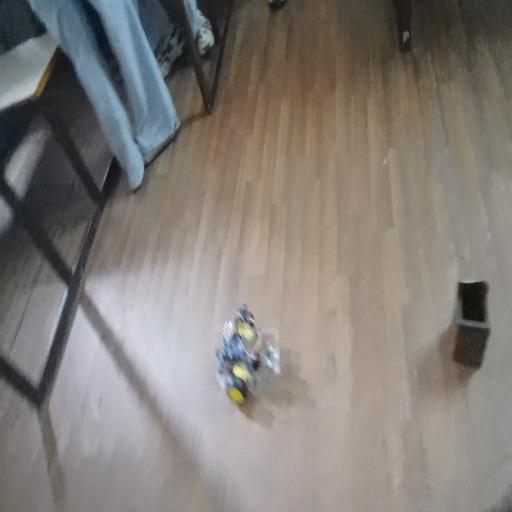car: (209, 282, 269, 416)
